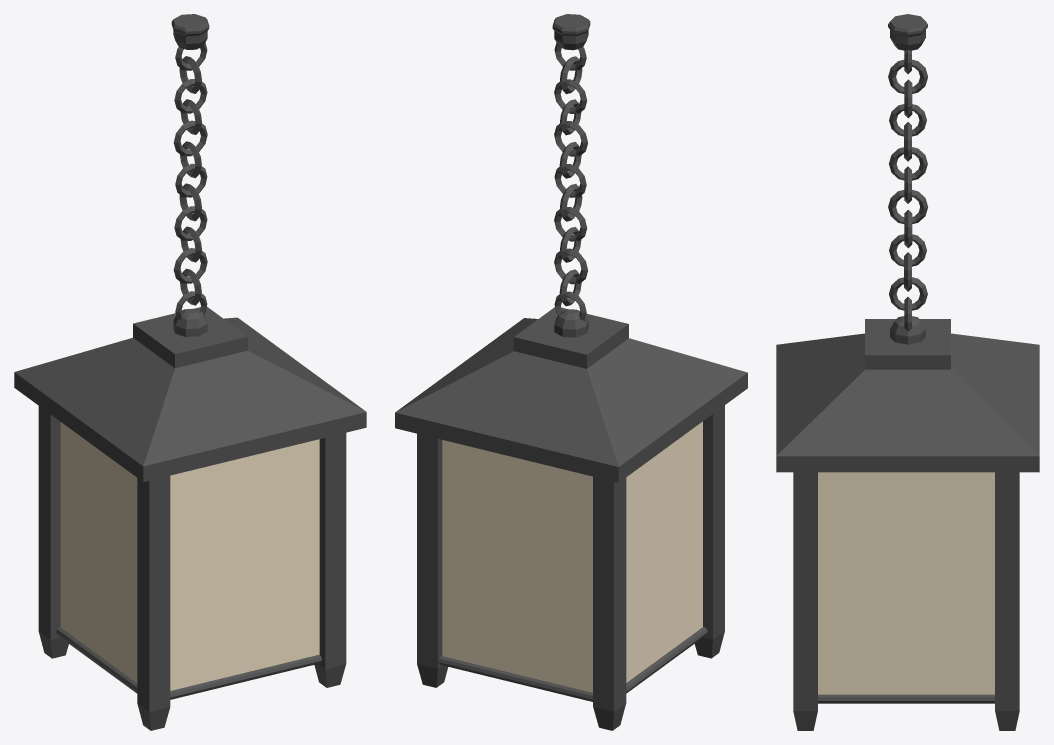
File: sweethome3d-blendswap-cc-0-outdoor-lamp.glb
3 renders of one model, left to right at view 1: azimuth 30°, elevation 25°; view 2: azimuth 150°, elevation 25°; view 3: azimuth 270°, elevation 25°, orthographic. The views are drawn at different scales.
Parts seen in each view (by area): view 1: Lamp_outdoor_01, Lamp_outdoor_Pane1, Lamp_outdoor_Pane4, Lamp_outdoor_chain; view 2: Lamp_outdoor_01, Lamp_outdoor_Pane3, Lamp_outdoor_Pane4, Lamp_outdoor_chain; view 3: Lamp_outdoor_01, Lamp_outdoor_Pane2, Lamp_outdoor_chain.
Part boxes in pixels (bbox=[...]): Lamp_outdoor_01: bbox=[14, 307, 366, 730]; Lamp_outdoor_Pane1: bbox=[170, 439, 319, 690]; Lamp_outdoor_Pane4: bbox=[60, 422, 137, 682]; Lamp_outdoor_chain: bbox=[171, 14, 209, 319]; Lamp_outdoor_01: bbox=[395, 307, 747, 730]; Lamp_outdoor_Pane3: bbox=[442, 440, 592, 692]; Lamp_outdoor_Pane4: bbox=[626, 421, 702, 682]; Lamp_outdoor_chain: bbox=[552, 14, 590, 320]; Lamp_outdoor_01: bbox=[776, 316, 1039, 730]; Lamp_outdoor_Pane2: bbox=[818, 472, 994, 694]; Lamp_outdoor_chain: bbox=[888, 14, 927, 331].
Bounding box in the file's own units: 21.33 × 59.07 × 21.33.
